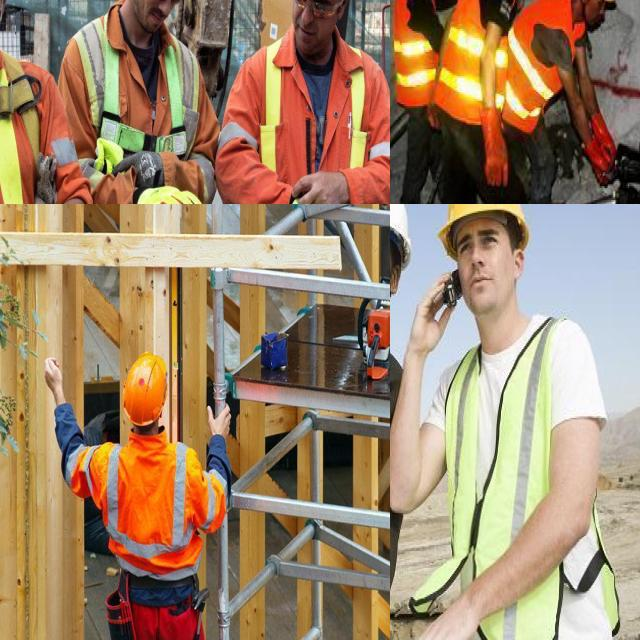No_Ear-Protection: (510, 245, 527, 287), (390, 257, 401, 299)
No_Glasses: (450, 227, 506, 260)
face_nomask: (450, 220, 517, 316), (274, 0, 347, 62), (121, 0, 187, 33), (577, 0, 609, 34)
glasses: (289, 0, 338, 25)
hand_glove: (476, 102, 518, 200), (589, 106, 620, 184), (134, 172, 206, 204)
hand_noglove: (411, 270, 453, 358), (402, 598, 478, 640), (294, 158, 351, 204), (39, 351, 72, 402), (208, 399, 236, 444)
head_helmet: (434, 204, 535, 257), (122, 350, 169, 425)
person: (428, 204, 617, 640), (43, 351, 231, 640), (223, 0, 390, 204), (58, 0, 220, 204), (434, 0, 554, 204), (511, 0, 614, 177), (0, 0, 88, 204), (391, 0, 448, 204)
vest: (450, 349, 619, 640), (246, 44, 390, 204), (87, 26, 207, 204), (100, 433, 204, 584), (505, 0, 581, 121), (445, 0, 510, 116), (393, 0, 436, 98)
